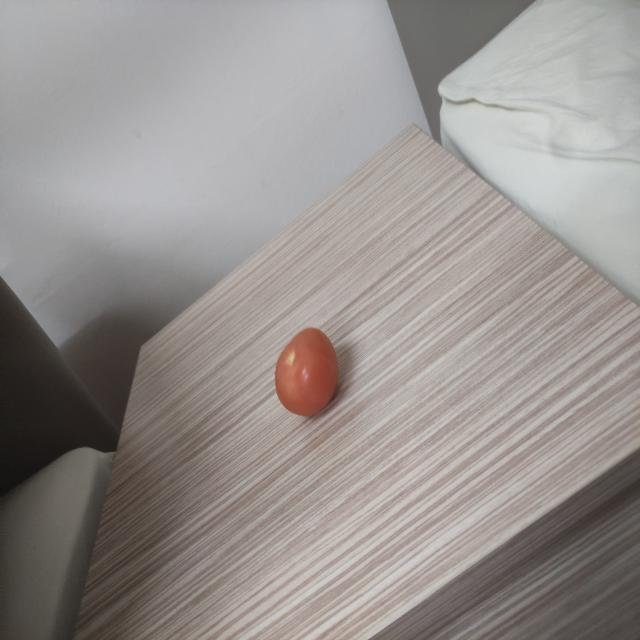sari: (267, 320, 349, 428)
